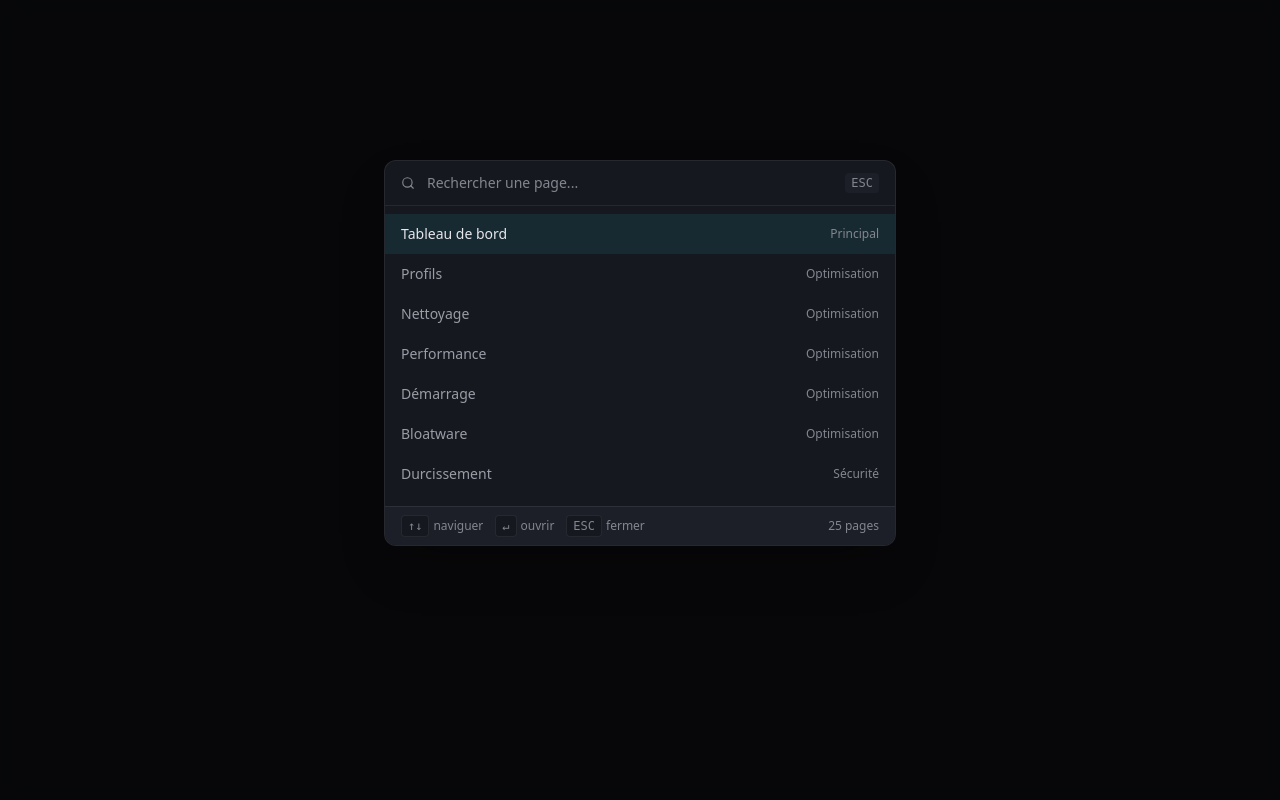
Test case: CommandPalette recherche › affiche Aucun résultat pour une requête sans correspondance
In the dropdown labelled "Rechercher une page": (630, 183) top-left (427, 173), bottom-right (833, 193), type "zzzzzz"
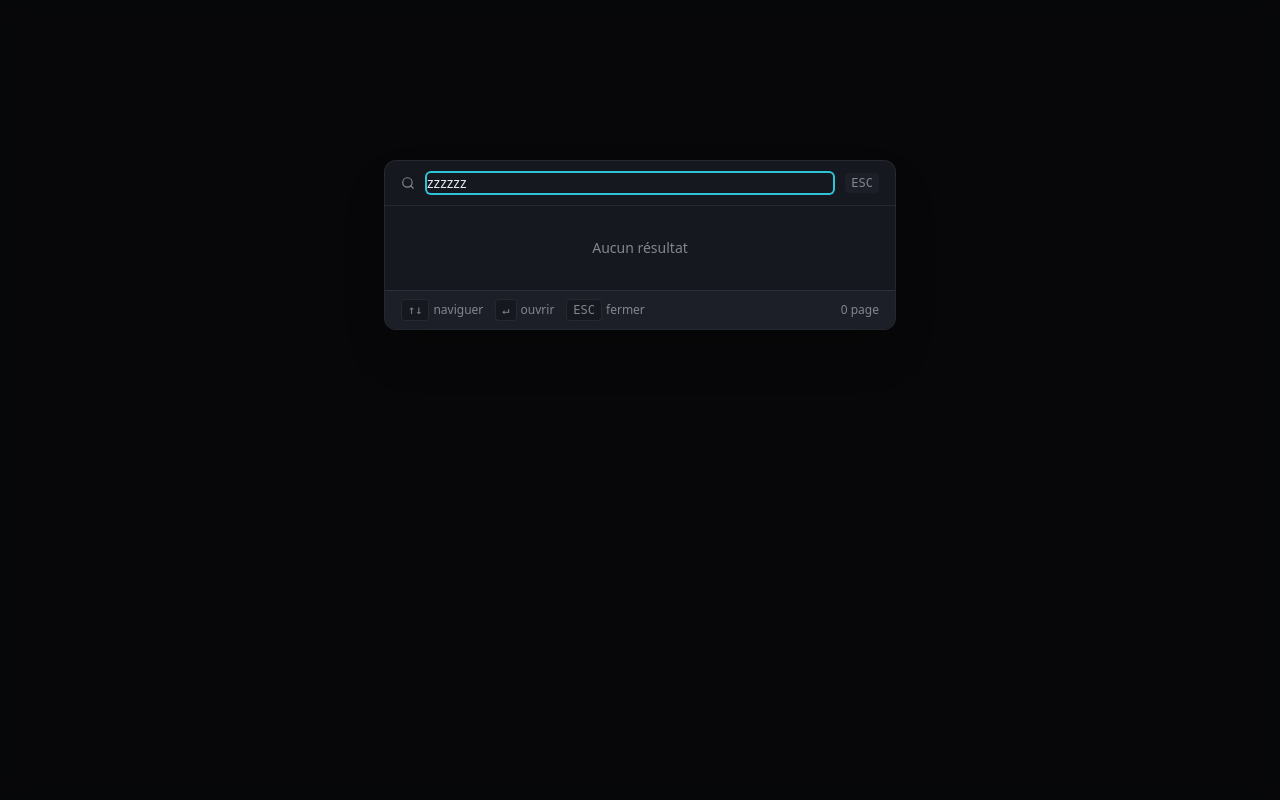
Now the text "Aucun résultat" is shown, box top-left (592, 238), bottom-right (688, 257)
